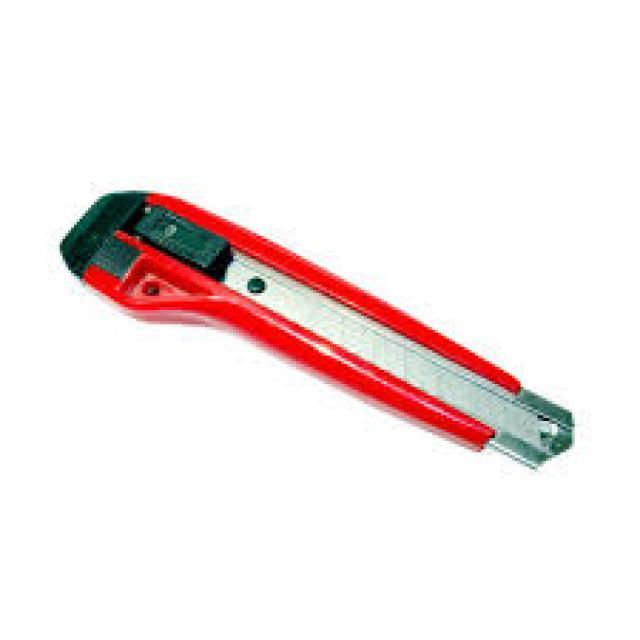cutter: (46, 171, 582, 486)
